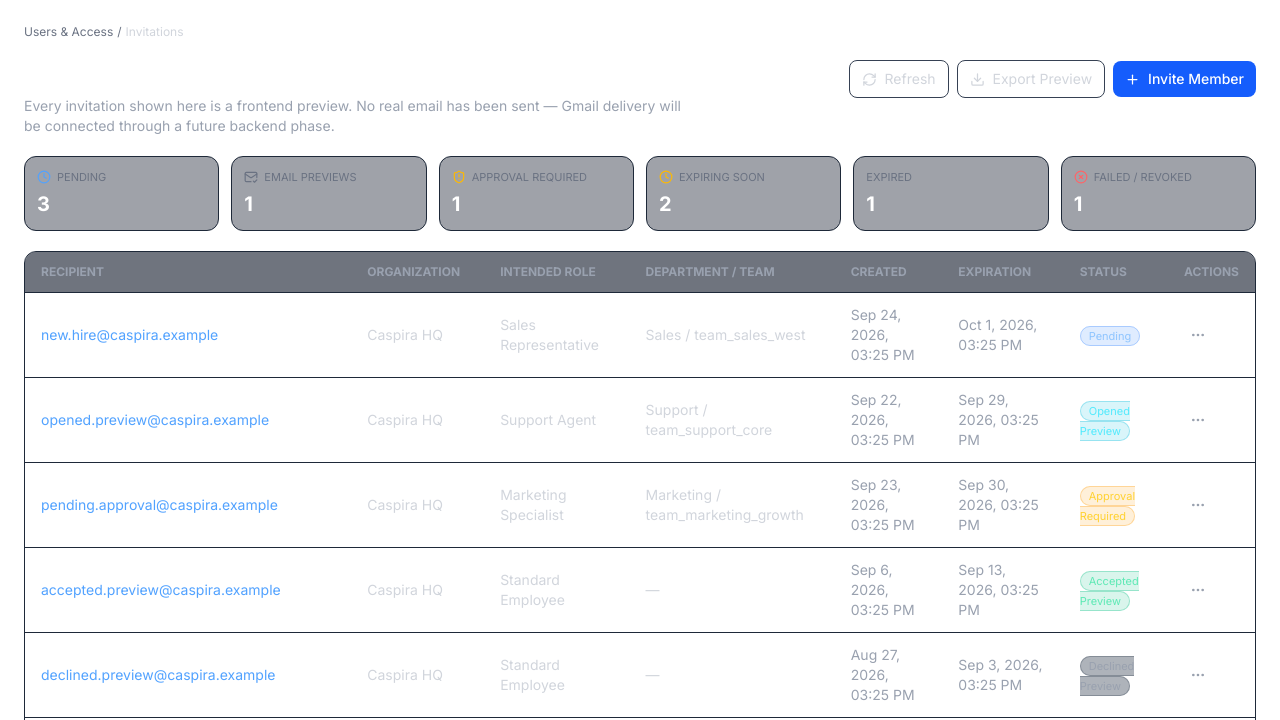
Scenario: InvitationsList › clicking the Approval Required metric filters the table and shows the review hint
Check: the button "pending.approval@caspira.example" is shown, box [41, 494, 278, 514]
Click the button "Approval Required 1" at (536, 193), box [439, 156, 634, 230]
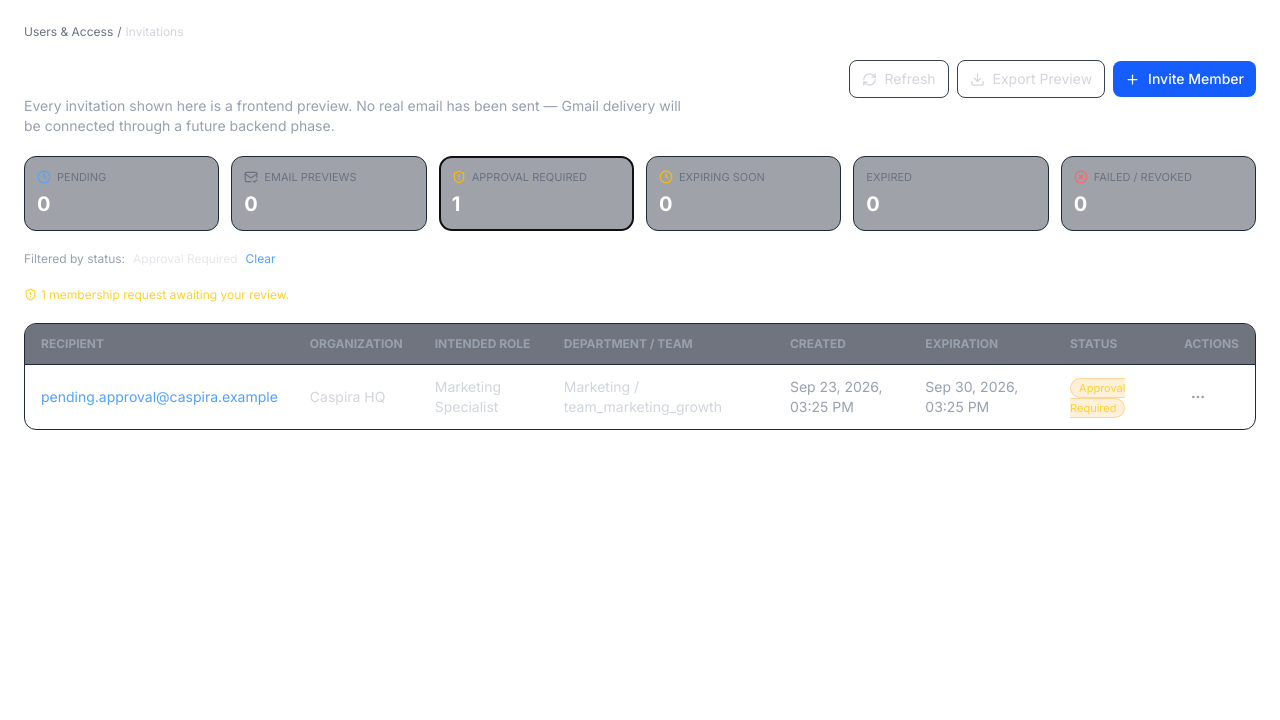
Check: the button "pending.approval@caspira.example" is shown, box [41, 386, 278, 406]
Check: the button "new.hire@caspira.example" is gone
Check: the text "1 membership request awaiting your review." is shown, box [24, 286, 289, 302]
